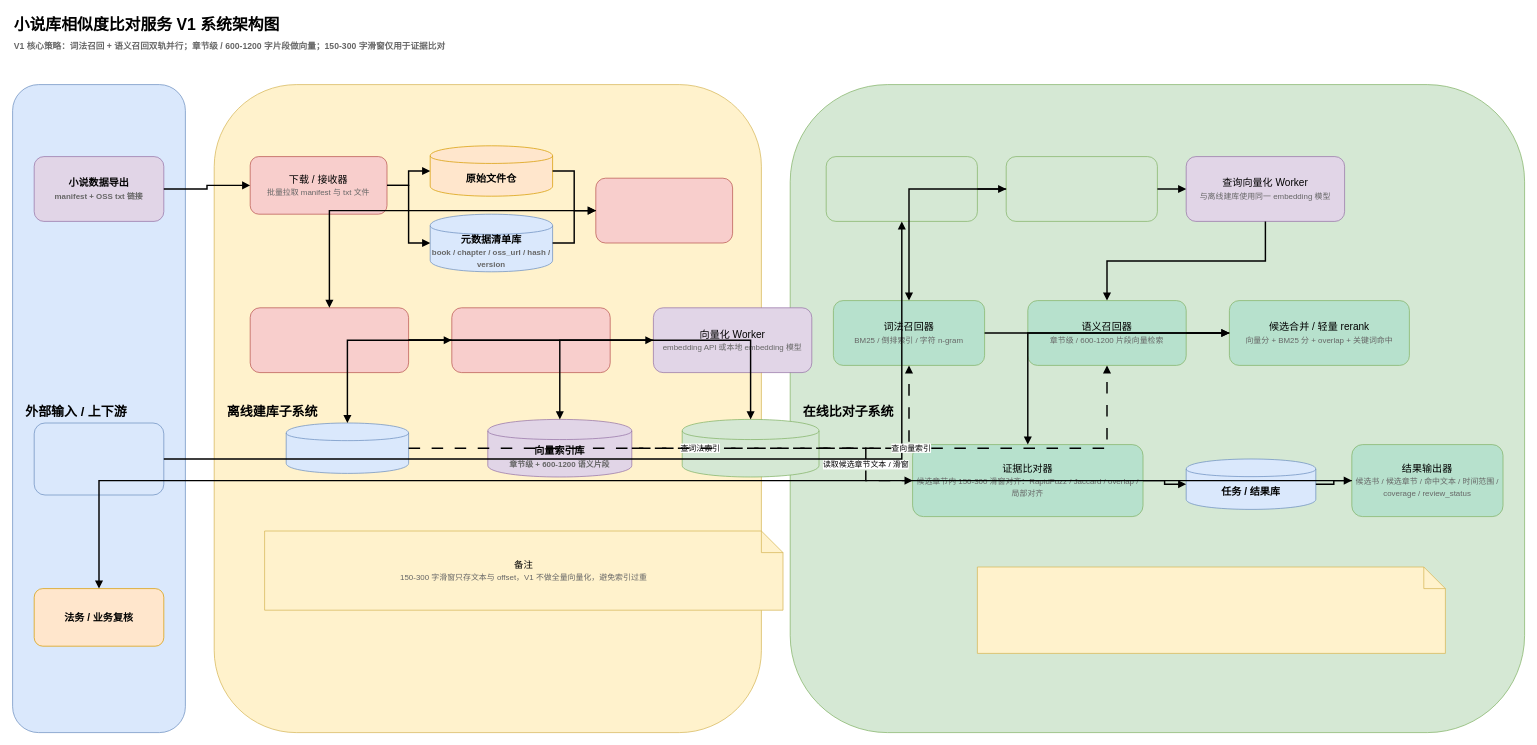
Image size: 1537x745. Some labels were removed from this diagram. The shapes that lost their labels are listed below. From the top down, each one's centre as x and y in pixels, then its label:
pixel 901 188: API 服务 提交任务 / 查状态 / 查结果 / 写复核
pixel 1081 188: 字幕预处理器 原始分段 / 句群聚合 / 时间轴保留
pixel 664 210: 标准化清洗 去广告 / 统一空白 / 统一标点 / 字段映射
pixel 329 340: 切分器 章节文本 / 600-1200 语义片段 / 150-300 证据滑窗
pixel 530 340: 词法索引构建器 字符 2-gram / 3-gram + BM25 + 倒排索引
pixel 98 458: 侵权巡检助手 视频处理 / ASR / 字幕导出
pixel 347 447: 词法索引库
pixel 750 448: 标准化文本库 章节文本 / 证据滑窗 / offset 信息
pixel 1211 609: V1 机器策略 32G Mac 可承担：开发 / 样本验证 / 中粒度向量化；不建议承担全库细滑窗全量向量化与本地大回答模型
